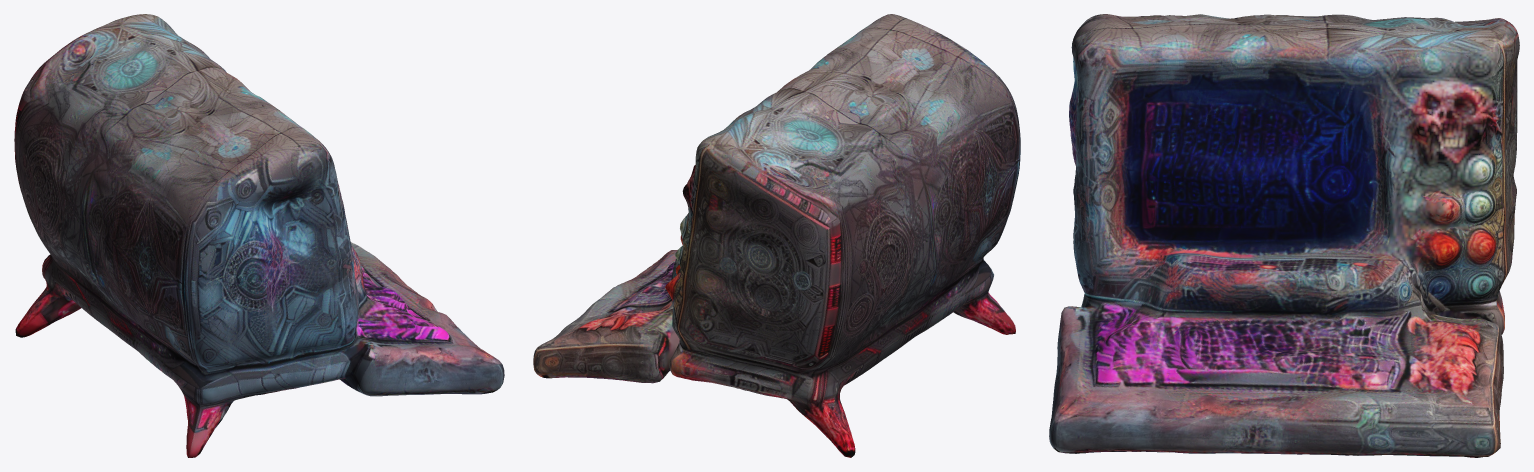
The picture shows the model from 3 angles, left to right: view 1: azimuth 30°, elevation 25°; view 2: azimuth 150°, elevation 25°; view 3: azimuth 270°, elevation 25°; orthographic projection. The views are drawn at different scales.
Parts seen in each view (by area): view 1: Mesh_0; view 2: Mesh_0; view 3: Mesh_0.
Boxes of the visible parts, x1,y1,x2,y2 form: Mesh_0: (14, 14, 504, 457); Mesh_0: (533, 14, 1020, 457); Mesh_0: (1049, 14, 1519, 457).
Bounding box in the file's own units: 110 × 93.62 × 120.
Materials: 1 (1 with a texture image).
